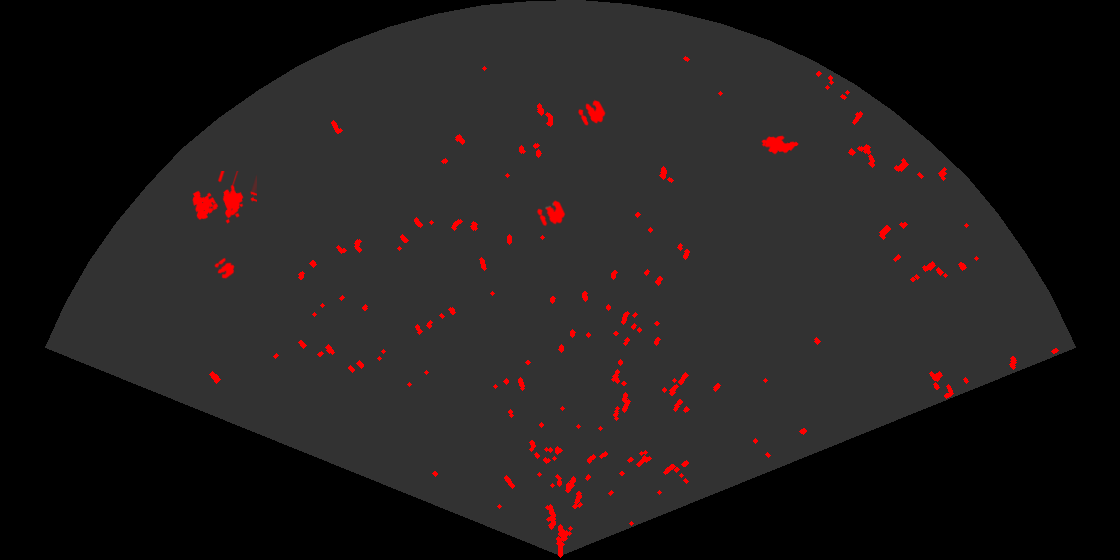AUV: (760, 134, 800, 156)
ball: (535, 199, 567, 228), (577, 98, 607, 127), (213, 256, 236, 280)
cage: (191, 171, 257, 225)
